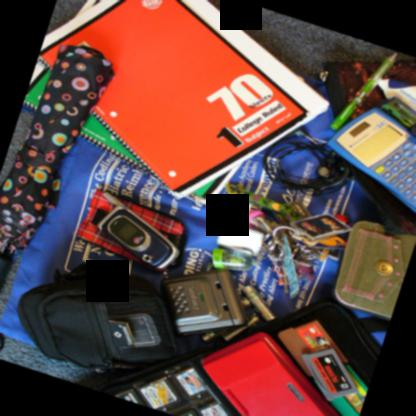backpack: (16, 261, 189, 372)
